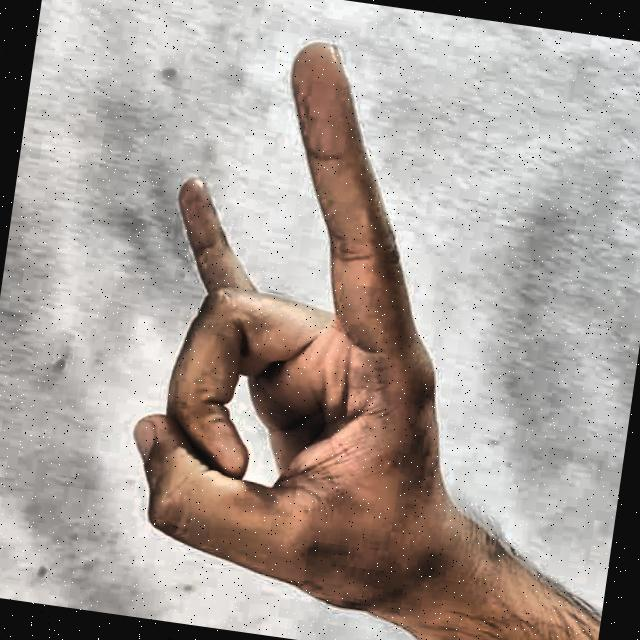Cha: (54, 0, 574, 640)
